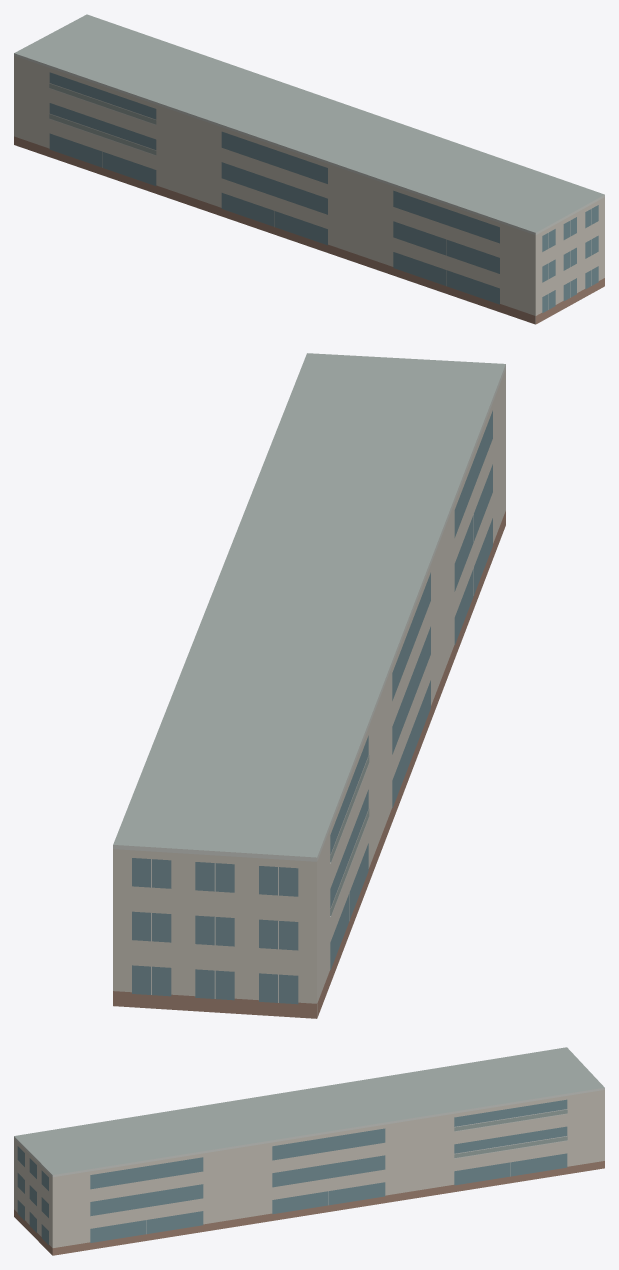
The model's file is survey-upis-33029342.glb.
3 views of the same model, one above another, from view 1: azimuth 30°, elevation 25°; view 2: azimuth 150°, elevation 25°; view 3: azimuth 270°, elevation 25° (orthographic). The views are drawn at different scales.
Parts seen in each view (by area): view 1: survey-upis-33029342.tmp; view 2: survey-upis-33029342.tmp; view 3: survey-upis-33029342.tmp.
Boxes of the visible parts, bbox=[...] form: survey-upis-33029342.tmp: bbox=[14, 14, 604, 324]; survey-upis-33029342.tmp: bbox=[113, 353, 505, 1018]; survey-upis-33029342.tmp: bbox=[14, 1047, 604, 1255].
Size of the model in its own units: 31.15 by 9.15 by 60.78.
